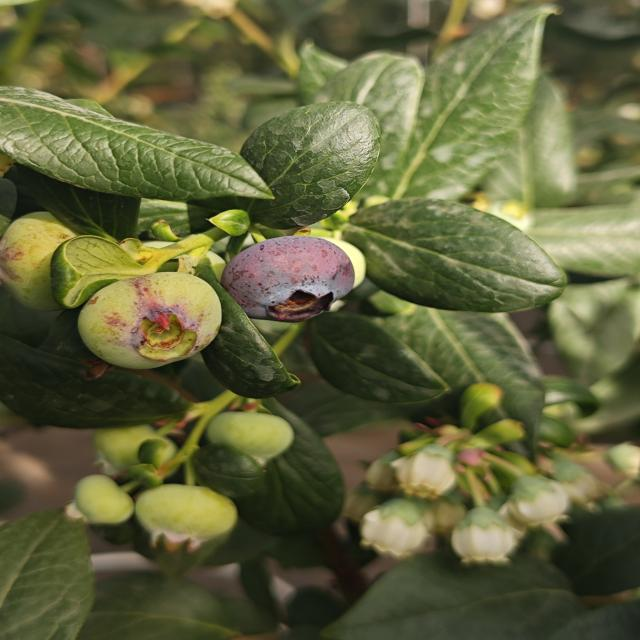ripe: (218, 235, 348, 316)
